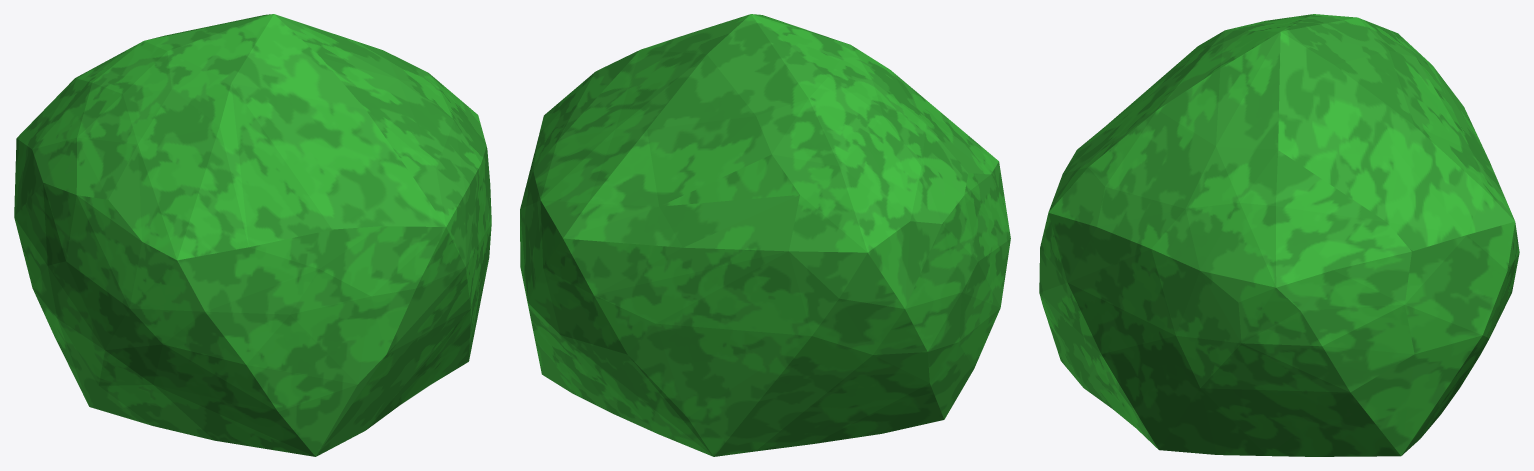
File: SingleBushTextured.glb
3 renders of one model, left to right at view 1: azimuth 30°, elevation 25°; view 2: azimuth 150°, elevation 25°; view 3: azimuth 270°, elevation 25°, orthographic. The views are drawn at different scales.
Visible parts, largest first — view 1: Icosphere; view 2: Icosphere; view 3: Icosphere.
Boxes of the visible parts, left/top/right/bottom form: Icosphere: left=14, top=14, right=491, bottom=456; Icosphere: left=520, top=14, right=1010, bottom=456; Icosphere: left=1039, top=14, right=1519, bottom=456.
Size of the model in its own units: 2.24 by 1.85 by 2.16.
1 material, 1 textured.
